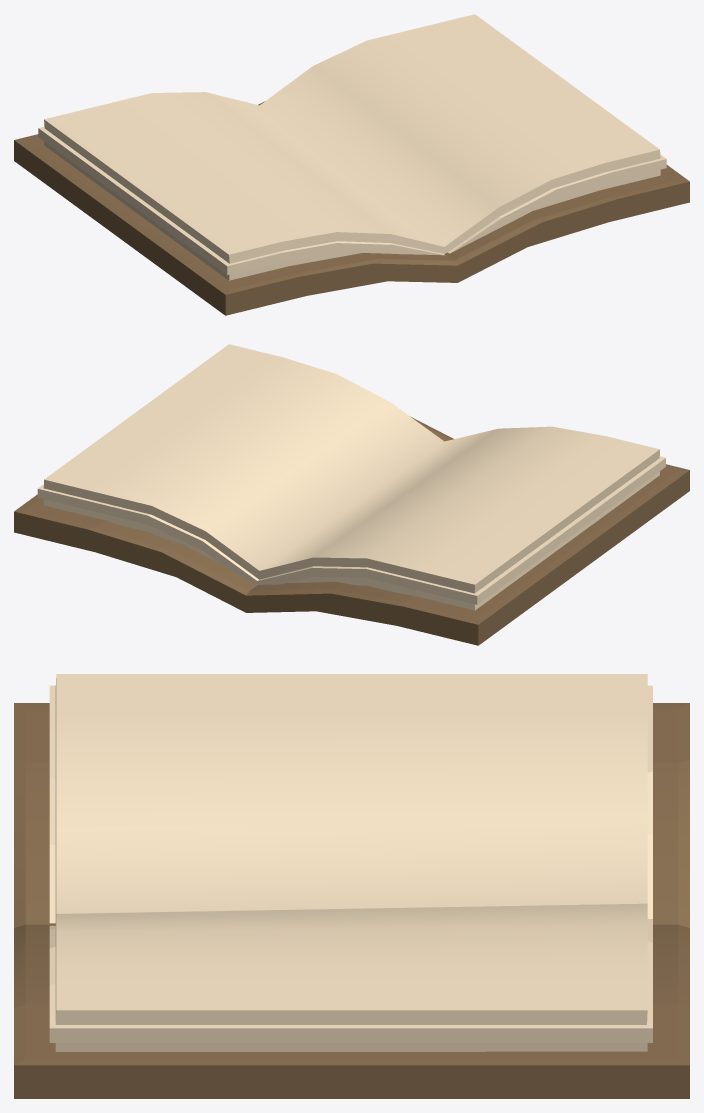
Rendered from openbook.fbx.
3 renders of one model, top to bottom at view 1: azimuth 30°, elevation 25°; view 2: azimuth 150°, elevation 25°; view 3: azimuth 270°, elevation 25°, orthographic. The views are drawn at different scales.
Visible parts, largest first — view 1: pCube2, pCube1; view 2: pCube2, pCube1; view 3: pCube2, pCube1.
Boxes of the visible parts, x1,y1,x2,y2 form: pCube2: (38, 14, 666, 280); pCube1: (14, 101, 689, 315); pCube2: (37, 344, 665, 610); pCube1: (14, 416, 689, 645); pCube2: (49, 674, 652, 1051); pCube1: (14, 703, 689, 1098).
Bounding box in the file's own units: 11.22 × 1.69 × 8.85.
